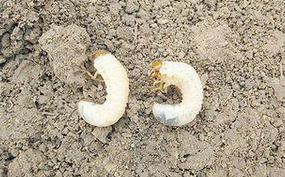grub: (149, 56, 205, 127)
